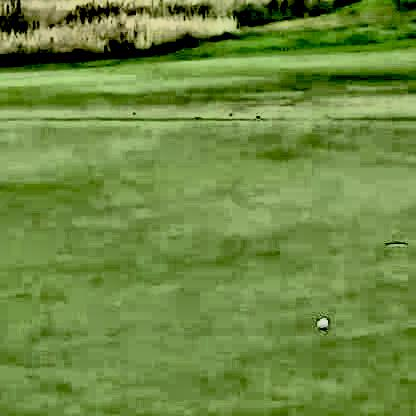golfball: (315, 315, 326, 327)
